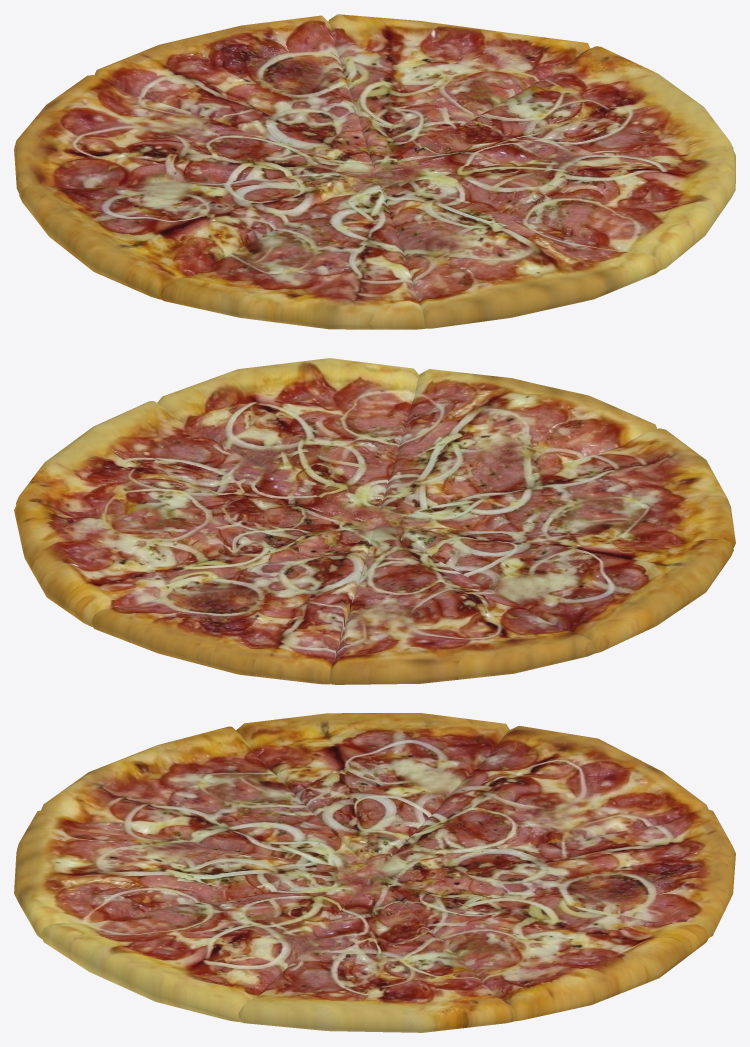
File: meat_2.glb
3 views of the same model, one above another, from view 1: azimuth 30°, elevation 25°; view 2: azimuth 150°, elevation 25°; view 3: azimuth 270°, elevation 25° (orthographic).
Parts seen in each view (by area): view 1: Material2.008; view 2: Material2.008; view 3: Material2.008.
Boxes of the visible parts, bbox=[...] form: Material2.008: bbox=[14, 14, 735, 329]; Material2.008: bbox=[14, 358, 735, 684]; Material2.008: bbox=[14, 713, 735, 1032].
Bounding box in the file's own units: 1.2 × 0.0634 × 1.2.
Materials: 1 (1 with a texture image).
